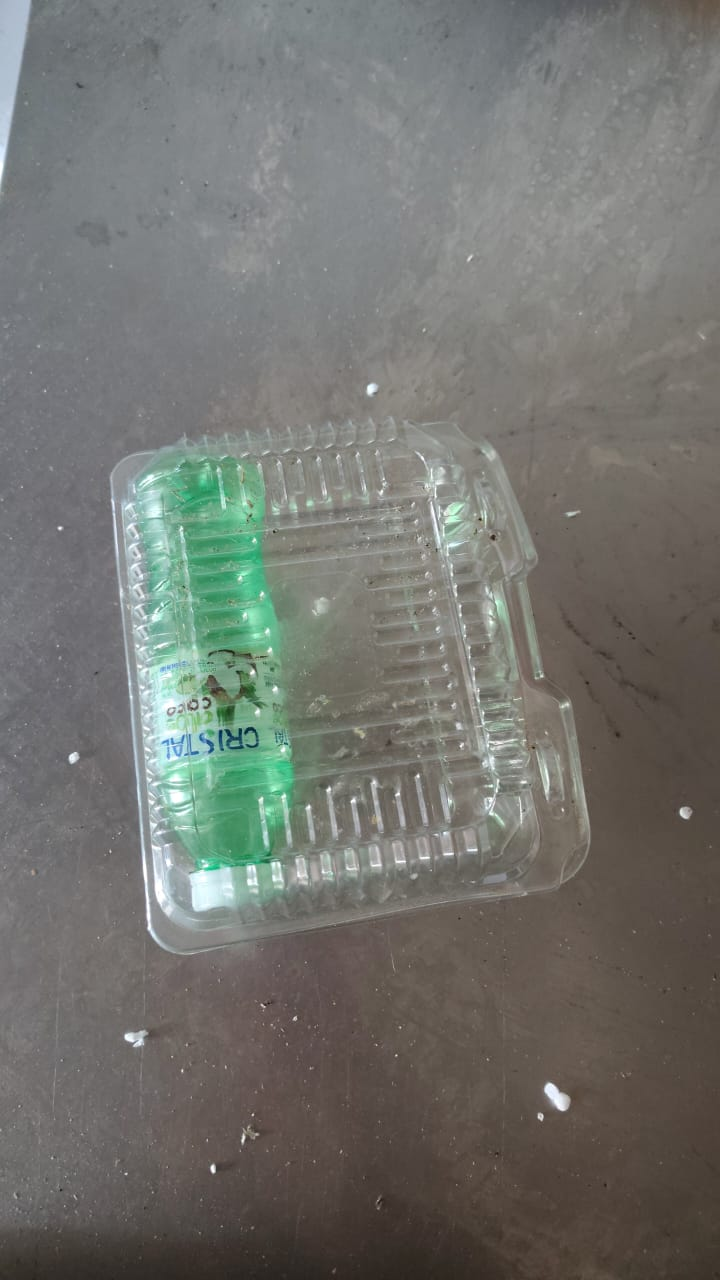Plastico: (104, 414, 593, 955)
